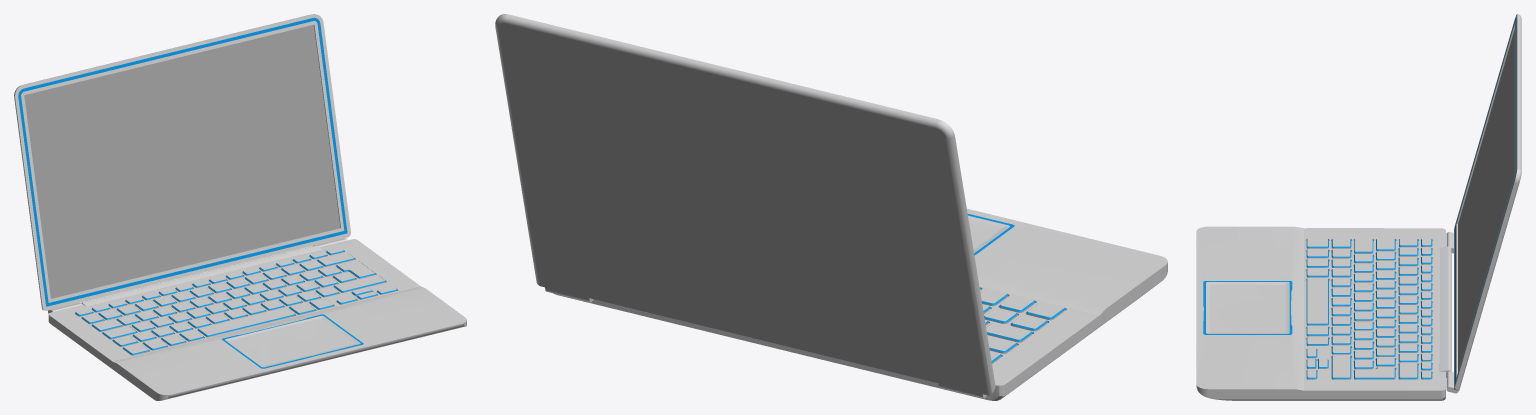
File: SM_Portatiles.fbx
The picture shows the model from 3 angles, left to right: view 1: azimuth 30°, elevation 25°; view 2: azimuth 150°, elevation 25°; view 3: azimuth 270°, elevation 25°; orthographic projection. The views are drawn at different scales.
Parts seen in each view (by area): view 1: Portatil_screen, Portatil_body, Portatil_details; view 2: Portatil_body, Portatil_details; view 3: Portatil_body, Portatil_screen, Portatil_details.
Part boxes in pixels (box(x1,y1,x2,y2)): Portatil_screen: box(24, 24, 340, 298); Portatil_body: box(14, 14, 466, 400); Portatil_details: box(18, 17, 397, 368); Portatil_body: box(495, 14, 1167, 400); Portatil_details: box(967, 214, 1065, 362); Portatil_body: box(1196, 14, 1521, 400); Portatil_screen: box(1458, 30, 1514, 371); Portatil_details: box(1203, 18, 1516, 384).
Size of the model in its own units: 37.34 by 24.67 by 31.61.
